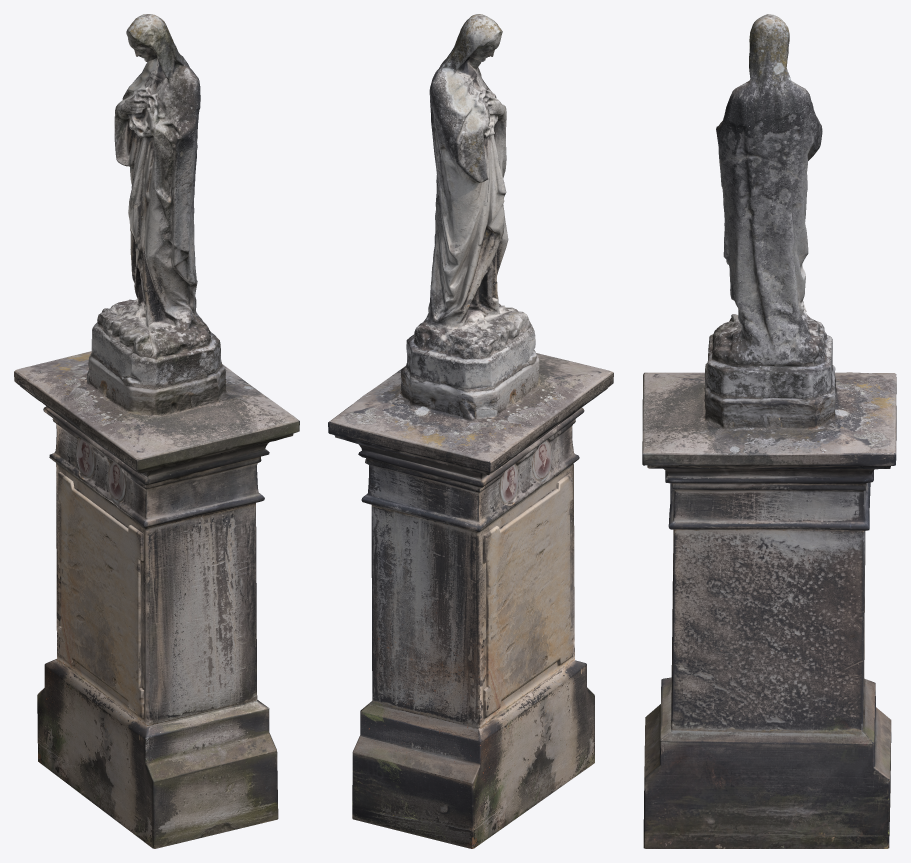
File: sm_GraveSculpture_08_01.fbx
3 views of the same model, side by side, from view 1: azimuth 30°, elevation 25°; view 2: azimuth 150°, elevation 25°; view 3: azimuth 270°, elevation 25° (orthographic). The views are drawn at different scales.
Visible parts, largest first — view 1: sm_GraveSculpture_08_01_LOD0; view 2: sm_GraveSculpture_08_01_LOD0; view 3: sm_GraveSculpture_08_01_LOD0.
Part boxes in pixels (x1,y1,x2,y2): sm_GraveSculpture_08_01_LOD0: [14, 14, 299, 848]; sm_GraveSculpture_08_01_LOD0: [328, 14, 613, 848]; sm_GraveSculpture_08_01_LOD0: [642, 14, 896, 848].
Bounding box in the file's own units: 103 × 135 × 467.
